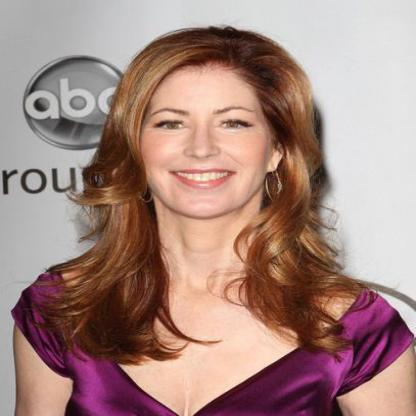long-hair: (74, 220, 346, 277)
